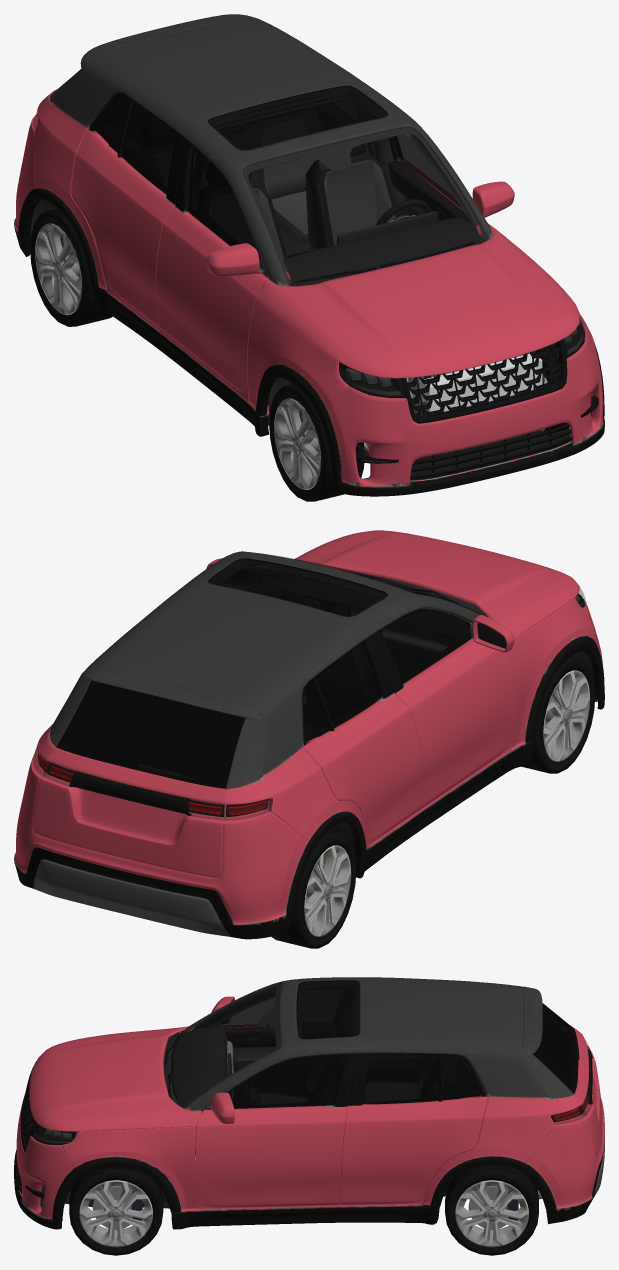
Rendered from suv.glb.
The picture shows the model from 3 angles, top to bottom: view 1: azimuth 30°, elevation 25°; view 2: azimuth 150°, elevation 25°; view 3: azimuth 270°, elevation 25°; orthographic projection. The views are drawn at different scales.
Parts seen in each view (by area): view 1: chassis-sunroof, hood, glass-windshield, bumper-front, door-front-right, door-rear-right, dashboard, seat-rear, glass-sunroof, seat-front-left, fender-front-right, front-grille (+25 smaller); view 2: chassis-sunroof, bumper-rear, trunk, door-front-right, hood, glass-rear, door-rear-right, glass-sunroof, dashboard, fender-front-right, glass-door-front-right, glass-door-rear-right (+18 smaller); view 3: chassis-sunroof, door-front-left, door-rear-left, hood, glass-windshield, fender-front-left, bumper-rear, glass-door-front-left, dashboard, glass-door-rear-left, glass-sunroof, bumper-front (+28 smaller).
Part boxes in pixels (<box>): chassis-sunroof: <box>34,18,493,436</box>; hood: <box>257,225,579,378</box>; glass-windshield: <box>243,127,487,285</box>; bumper-front: <box>325,328,604,496</box>; door-front-right: <box>155,137,268,401</box>; door-rear-right: <box>71,92,183,331</box>; dashboard: <box>283,211,486,286</box>; seat-rear: <box>131,110,322,255</box>; glass-sunroof: <box>207,85,387,150</box>; seat-front-left: <box>305,122,398,250</box>; fender-front-right: <box>247,298,349,410</box>; front-grille: <box>408,345,561,418</box>; chassis-sunroof: <box>34,551,534,878</box>; bumper-rear: <box>14,754,308,939</box>; trunk: <box>33,747,225,877</box>; door-front-right: <box>371,607,515,811</box>; hood: <box>294,530,579,638</box>; glass-rear: <box>56,680,245,788</box>; door-rear-right: <box>302,635,422,847</box>; glass-sunroof: <box>207,558,387,616</box>; dashboard: <box>266,577,467,668</box>; fender-front-right: <box>508,597,592,750</box>; glass-door-front-right: <box>380,611,471,683</box>; glass-door-rear-right: <box>315,643,380,728</box>; chassis-sunroof: <box>171,977,582,1229</box>; door-front-left: <box>195,1053,358,1210</box>; door-rear-left: <box>340,1053,487,1206</box>; hood: <box>29,1026,201,1131</box>; glass-windshield: <box>170,983,280,1107</box>; fender-front-left: <box>61,1126,198,1211</box>; bumper-rear: <box>525,1045,604,1224</box>; glass-door-front-left: <box>229,1055,345,1108</box>; dashboard: <box>170,1027,239,1150</box>; glass-door-rear-left: <box>363,1054,443,1104</box>; glass-sunroof: <box>296,980,359,1039</box>; bumper-front: <box>14,1100,73,1229</box>.
Size of the model in its own units: 1.95 by 1.56 by 4.19.
Materials: 17 (6 with a texture image).
